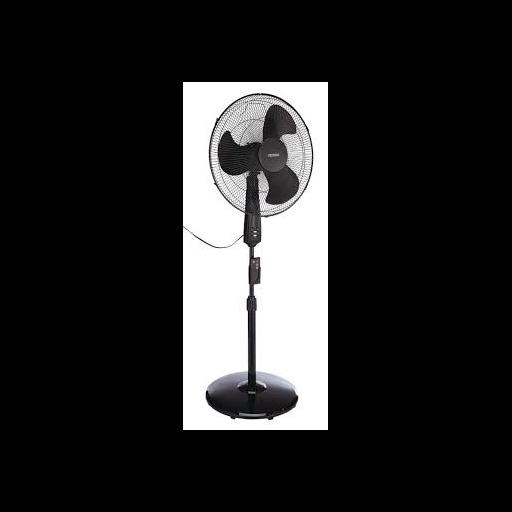Fan: (196, 92, 314, 217)
